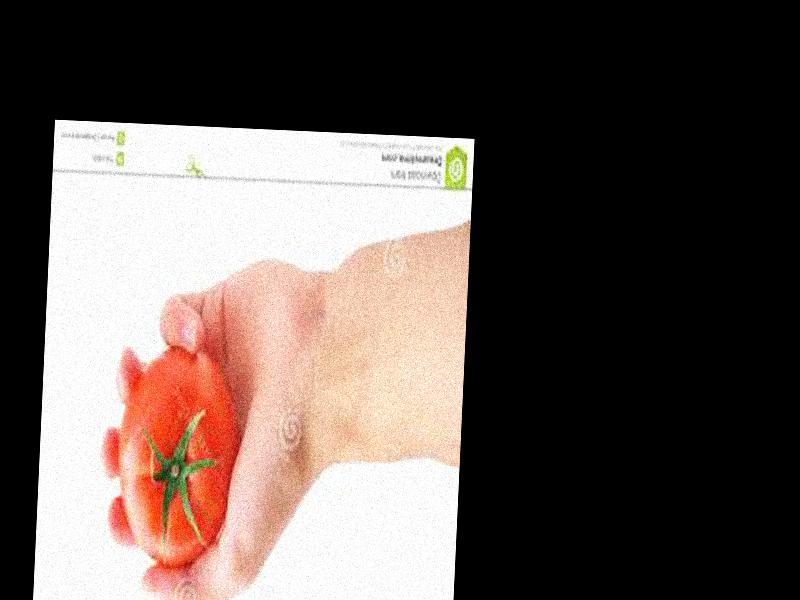Tomato: (114, 343, 239, 565)
